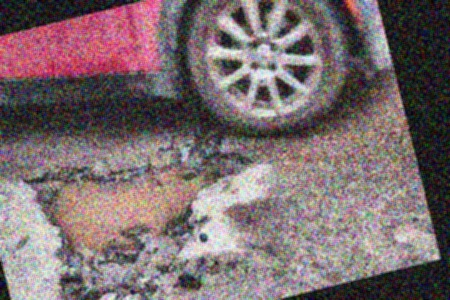pothole: (19, 119, 266, 272)
